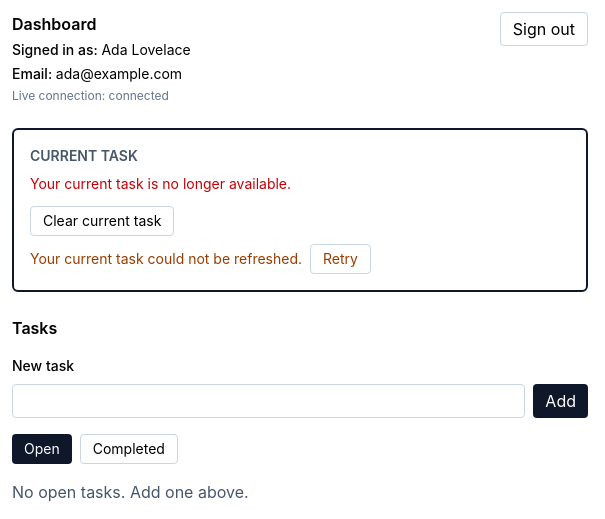
it: current task resynchronization (FE-1) › offers a working "Clear current task" when the re-read fails
The width and height of the screenshot is (605, 519).
Expected: the text "Your current task is no longer available." is shown, [30,175,291,192]
Expected: the text "Your current task could not be refreshed." is shown, [30,249,302,269]
Click the button "Clear current task" at point(102, 221), box [30,206,174,236]
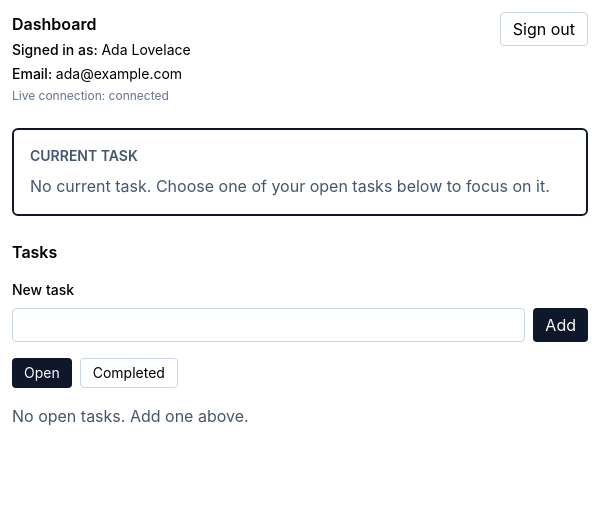
Result: the text "No current task" is shown at [30,176,550,196]
Result: the text "Your current task could not be refreshed." is gone
Result: the message "Your current task is no longer available." is gone
